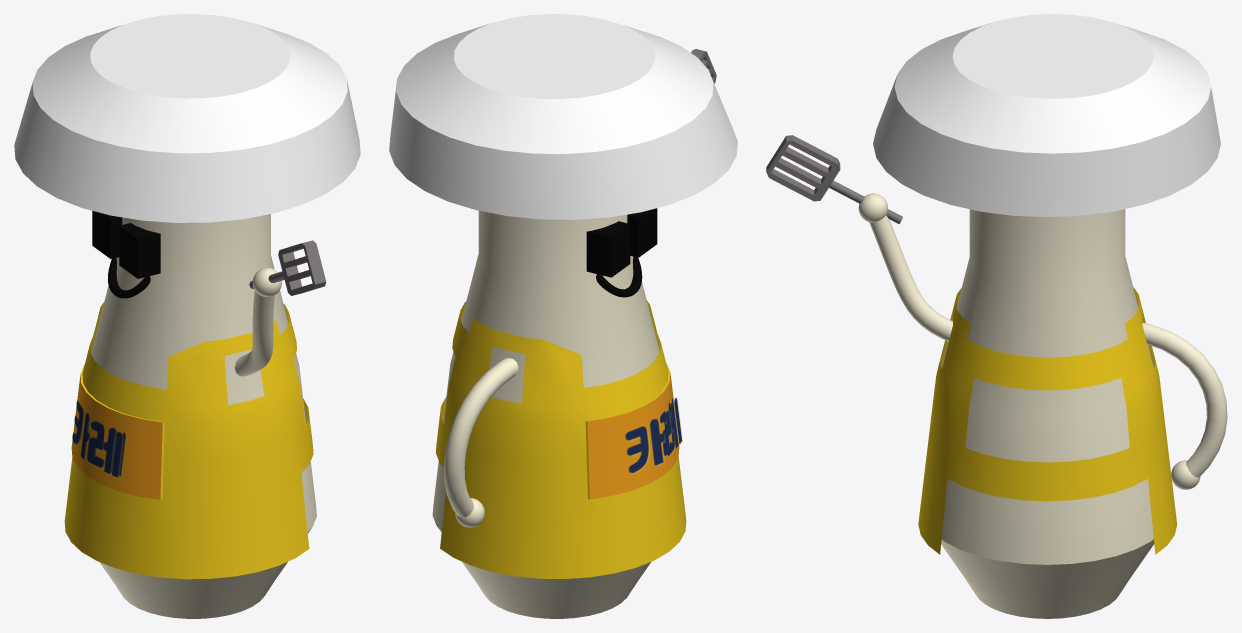
The model's file is mushroom_final.gltf.
The picture shows the model from 3 angles, left to right: view 1: azimuth 30°, elevation 25°; view 2: azimuth 150°, elevation 25°; view 3: azimuth 270°, elevation 25°; orthographic projection.
Visible parts, largest first — view 1: body, apron, eye r, 뒤집개, 팔, curry.001, eye l, curry_2, mouth, hand; view 2: body, apron, 팔 L, eye l, curry.001, eye r, curry_2, mouth; view 3: body, apron, 팔 L, 뒤집개, 팔, hand.
Part boxes in pixels (bbox=[...]): body: bbox=[14, 14, 360, 618]; apron: bbox=[64, 302, 313, 579]; eye r: bbox=[119, 223, 160, 278]; 뒤집개: bbox=[249, 240, 326, 295]; 팔: bbox=[234, 290, 274, 376]; curry.001: bbox=[72, 401, 123, 479]; eye l: bbox=[92, 211, 122, 258]; curry_2: bbox=[73, 400, 126, 478]; mouth: bbox=[108, 258, 150, 298]; hand: bbox=[252, 267, 281, 296]; body: bbox=[389, 14, 737, 618]; apron: bbox=[436, 300, 686, 578]; 팔 L: bbox=[444, 358, 518, 517]; eye l: bbox=[586, 221, 630, 277]; curry.001: bbox=[626, 398, 682, 473]; eye r: bbox=[627, 208, 657, 257]; curry_2: bbox=[625, 398, 675, 473]; mouth: bbox=[596, 256, 642, 297]; body: bbox=[873, 14, 1220, 618]; apron: bbox=[918, 287, 1177, 554]; 팔 L: bbox=[1142, 322, 1227, 477]; 뒤집개: bbox=[766, 135, 902, 223]; 팔: bbox=[869, 215, 952, 341]; hand: bbox=[858, 193, 887, 222].
Size of the model in its own units: 4.71 by 7.92 by 6.24.
Materials: 8 (2 with a texture image).
